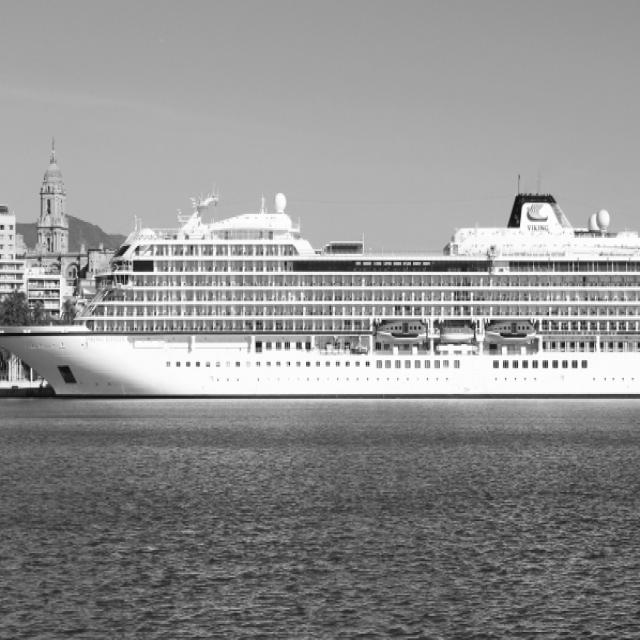cruises: (1, 185, 640, 407)
